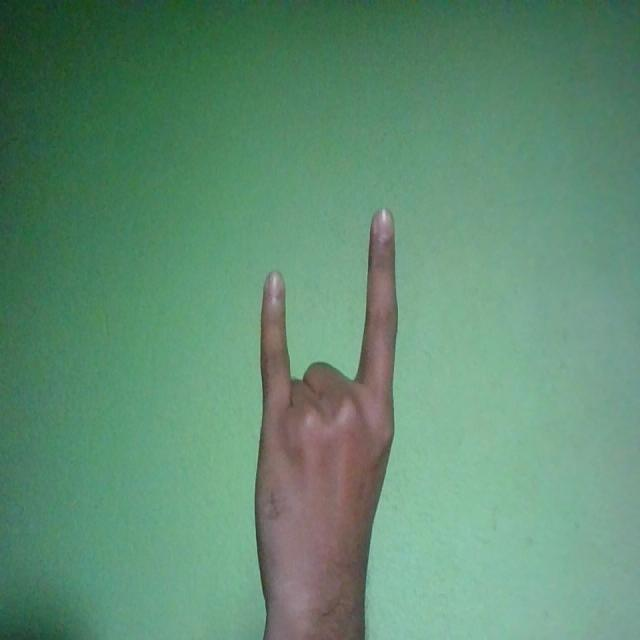open Plam: (255, 206, 399, 628)
